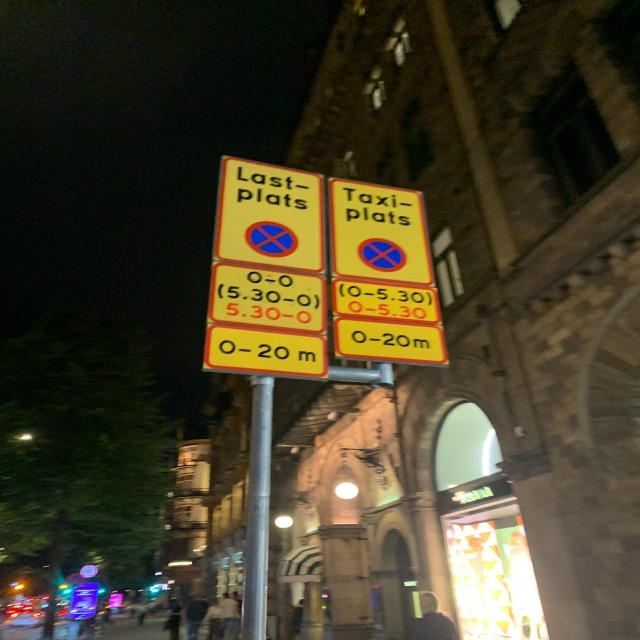P-skylt: (219, 155, 324, 272), (328, 179, 433, 286)
